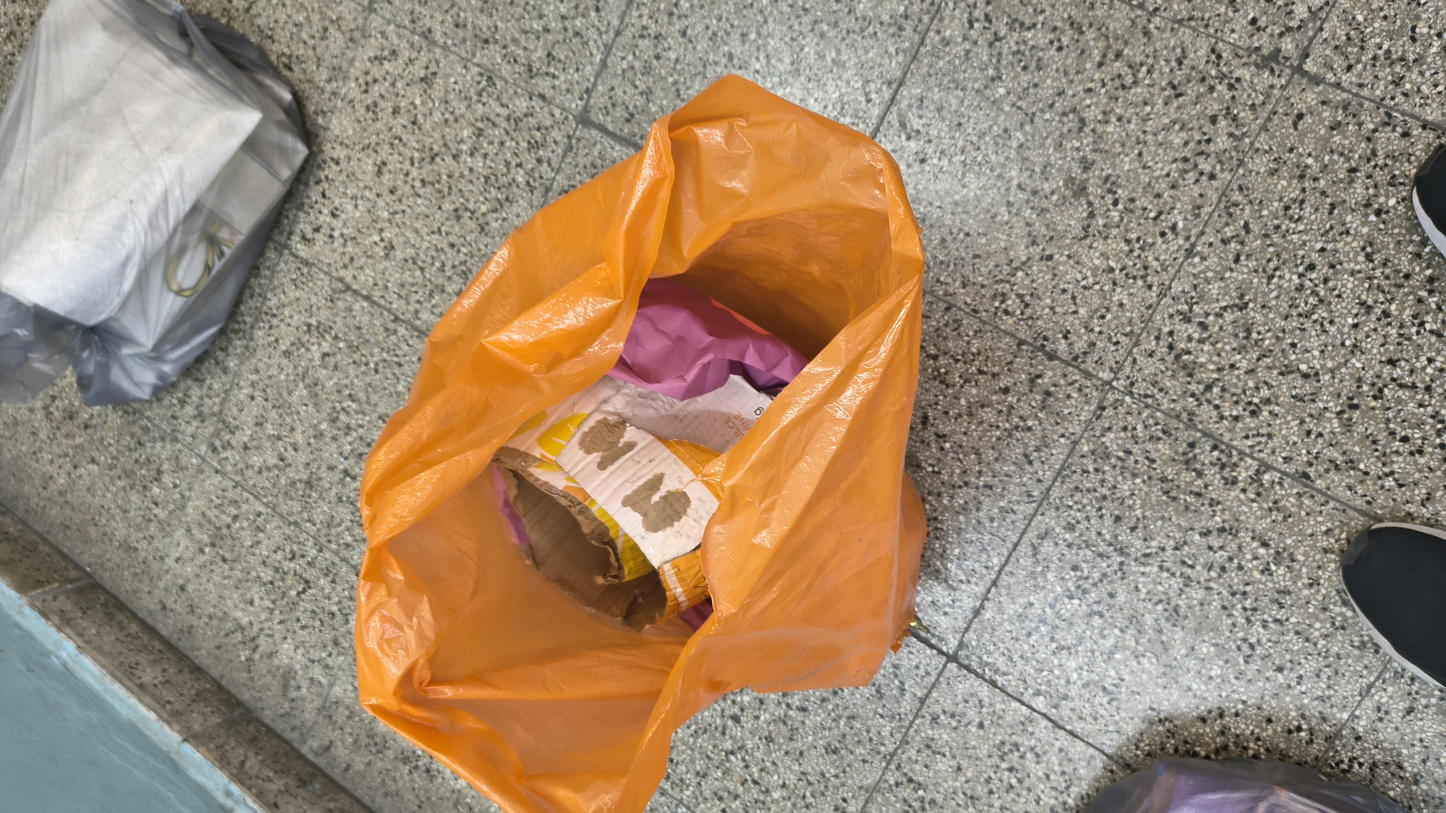Garbage: (503, 0, 1105, 755), (1130, 381, 1444, 813)
